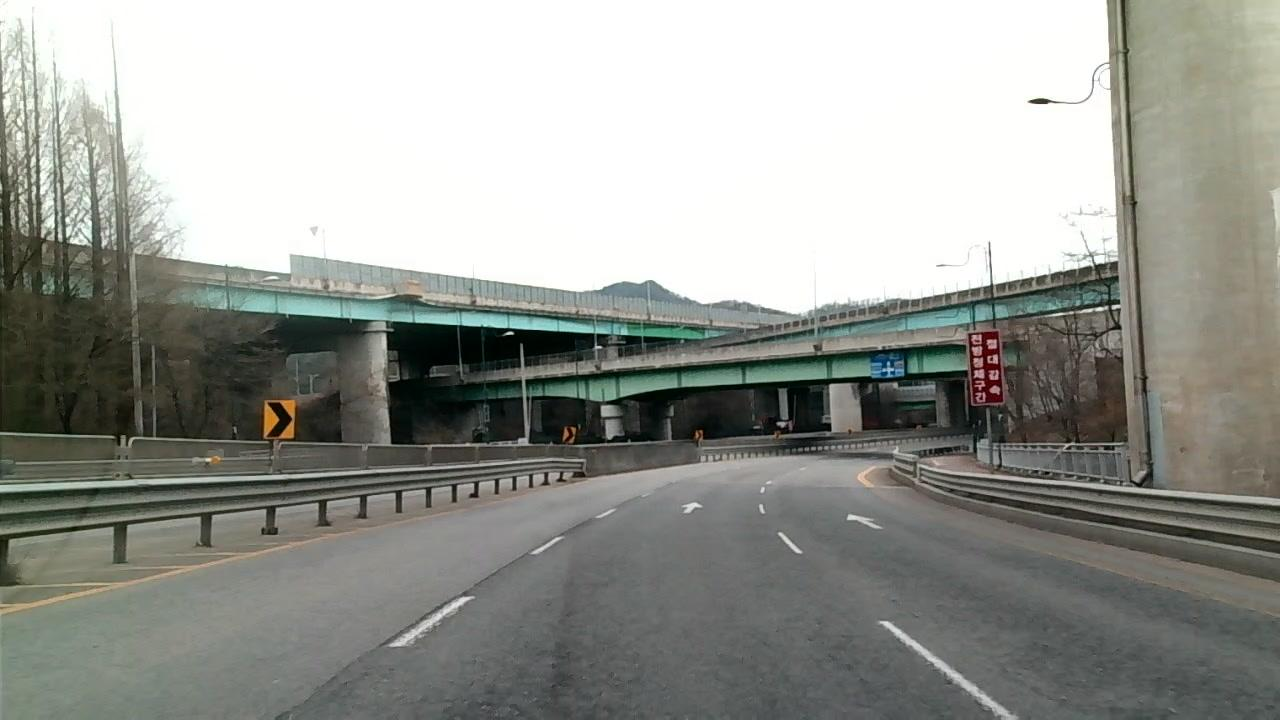erosion: (445, 591, 639, 720)
vcrack: (375, 515, 591, 648)
